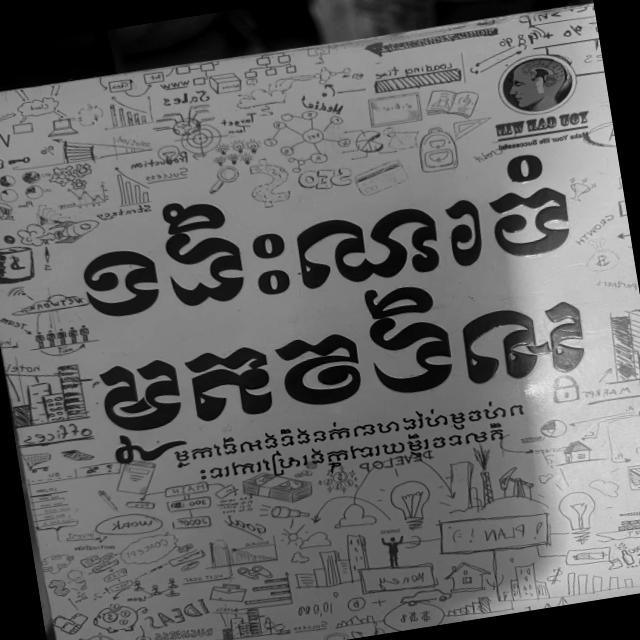Yolov11_80vkh: (81, 265, 600, 471), (69, 149, 592, 334)
